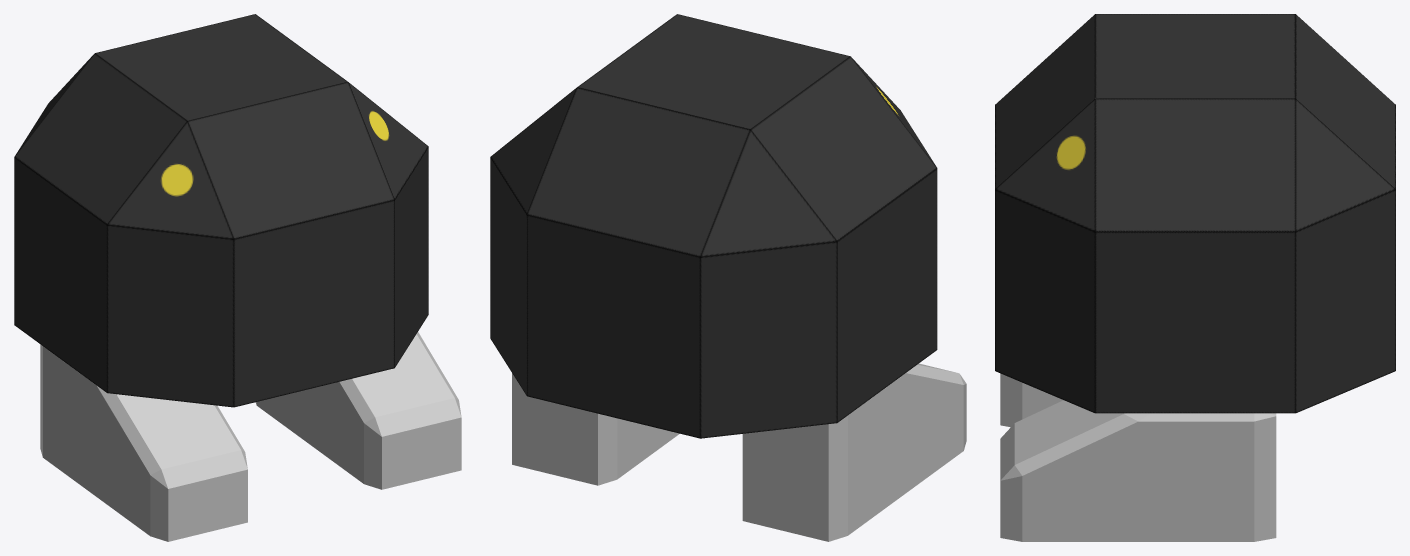
Rendered from player.obj.
3 renders of one model, left to right at view 1: azimuth 30°, elevation 25°; view 2: azimuth 150°, elevation 25°; view 3: azimuth 270°, elevation 25°, orthographic. The views are drawn at different scales.
Parts seen in each view (by area): view 1: 立方体; view 2: 立方体; view 3: 立方体.
Part boxes in pixels (box(x1,y1,x2,y2)): 立方体: box(14, 14, 461, 541); 立方体: box(490, 14, 966, 541); 立方体: box(995, 14, 1395, 541).
Bounding box in the file's own units: 1 × 1.11 × 1.
Materials: 1 (1 with a texture image).
